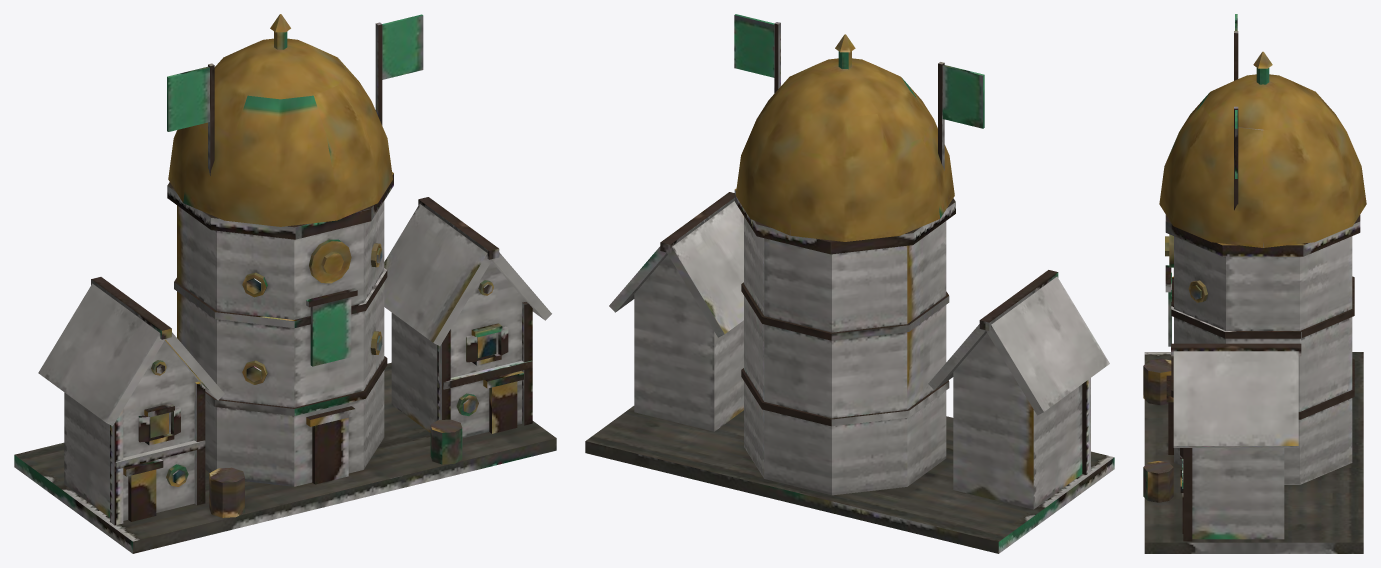
Rendered from pirate_plank_capital_academy.glb.
The picture shows the model from 3 angles, left to right: view 1: azimuth 30°, elevation 25°; view 2: azimuth 150°, elevation 25°; view 3: azimuth 270°, elevation 25°; orthographic projection. The views are drawn at different scales.
Parts seen in each view (by area): view 1: WoodBody, FixedDetails, BrassTrim; view 2: WoodBody, FixedDetails, BrassTrim; view 3: WoodBody, BrassTrim, FixedDetails.
Part boxes in pixels (<box>): WoodBody: <box>38,201,551,520</box>; FixedDetails: <box>14,14,556,553</box>; BrassTrim: <box>151,14,493,486</box>; WoodBody: <box>609,201,1109,509</box>; FixedDetails: <box>585,14,1114,553</box>; BrassTrim: <box>735,34,954,241</box>; WoodBody: <box>1173,236,1352,539</box>; BrassTrim: <box>1159,51,1366,302</box>; FixedDetails: <box>1143,14,1363,553</box>.
Bounding box in the file's own units: 0.5316 × 0.502 × 0.25.
3 materials, 3 textured.
